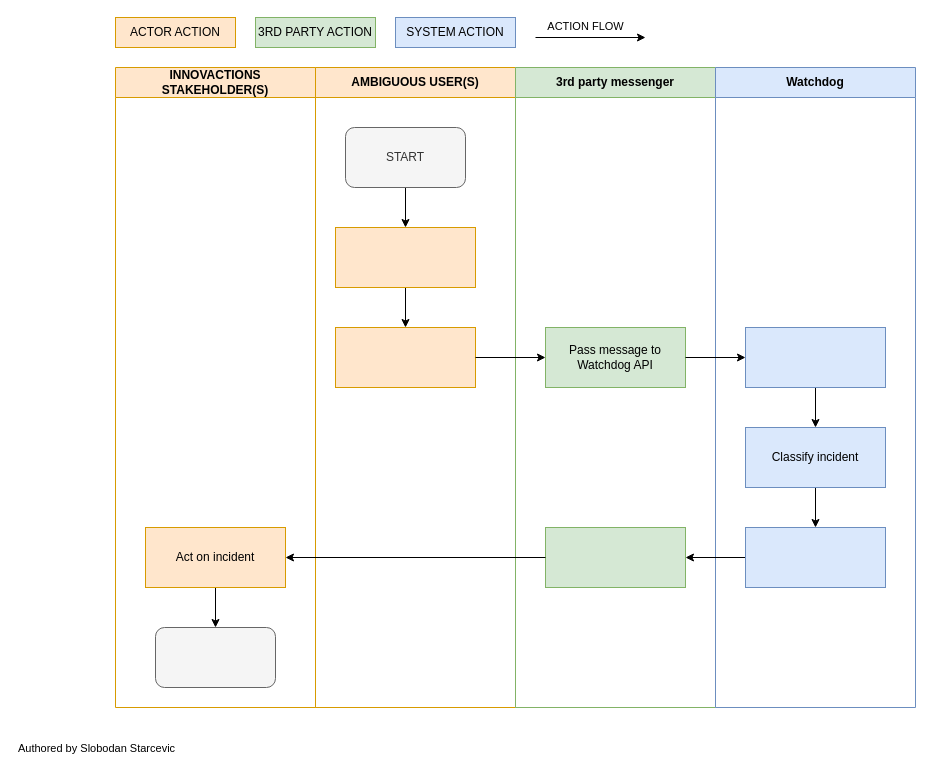
The diagram is 933 pixels wide and 772 high, and some of its shapes have lost their labels. Here are the shapes that lost their labels. From the top down, the centre of each, then its label:
At point (405, 257): "Write incident description".
At point (405, 357): "Send description as message to Watchdog bot".
At point (815, 357): "Interpret message".
At point (615, 557): "Pass message to target stakeholder".
At point (815, 557): "Send incident report".
At point (215, 657): "CONTINUE".
